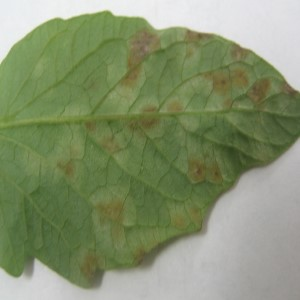cladosporium: (124, 33, 157, 85), (97, 198, 125, 245), (246, 76, 271, 107), (180, 27, 217, 45), (81, 251, 100, 283), (201, 71, 228, 93), (102, 137, 127, 155), (230, 45, 252, 63), (140, 107, 160, 126), (191, 160, 205, 181), (57, 161, 73, 177), (207, 167, 222, 183), (166, 102, 184, 114), (83, 119, 94, 131)
